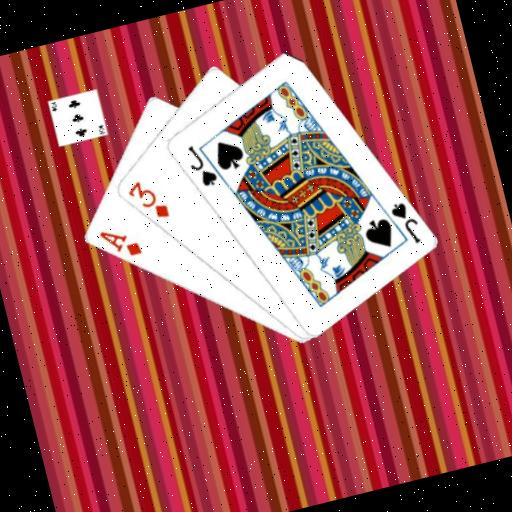3D: (122, 173, 172, 228)
AD: (94, 219, 144, 265)
JS: (182, 138, 221, 192), (386, 196, 424, 250)
